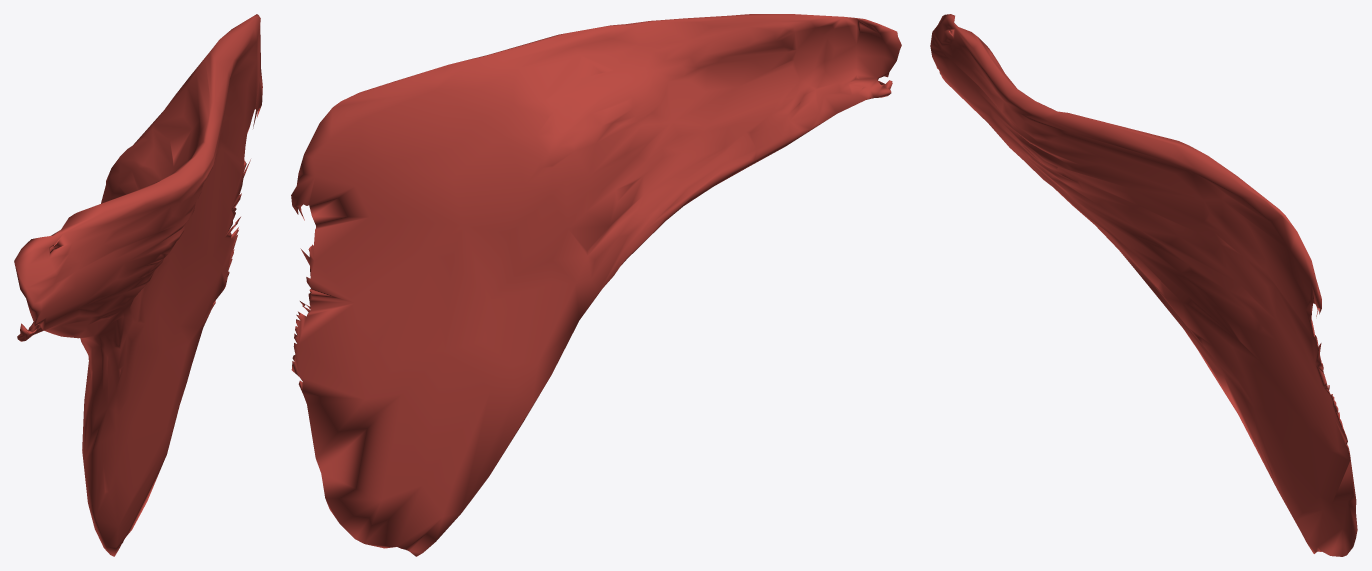
File: musculos-subscapularis-muscle-r.glb
The picture shows the model from 3 angles, left to right: view 1: azimuth 30°, elevation 25°; view 2: azimuth 150°, elevation 25°; view 3: azimuth 270°, elevation 25°; orthographic projection. The views are drawn at different scales.
Parts seen in each view (by area): view 1: Subscapularis muscle.r; view 2: Subscapularis muscle.r; view 3: Subscapularis muscle.r.
Boxes of the visible parts, x1,y1,x2,y2 form: Subscapularis muscle.r: [14, 14, 262, 556]; Subscapularis muscle.r: [291, 14, 901, 556]; Subscapularis muscle.r: [930, 14, 1357, 556].
Bounding box in the file's own units: 0.105 × 0.1146 × 0.1049.
